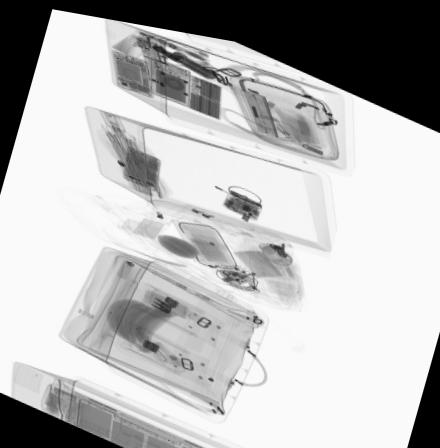Powerbank: (147, 49, 191, 102), (185, 65, 225, 114)
